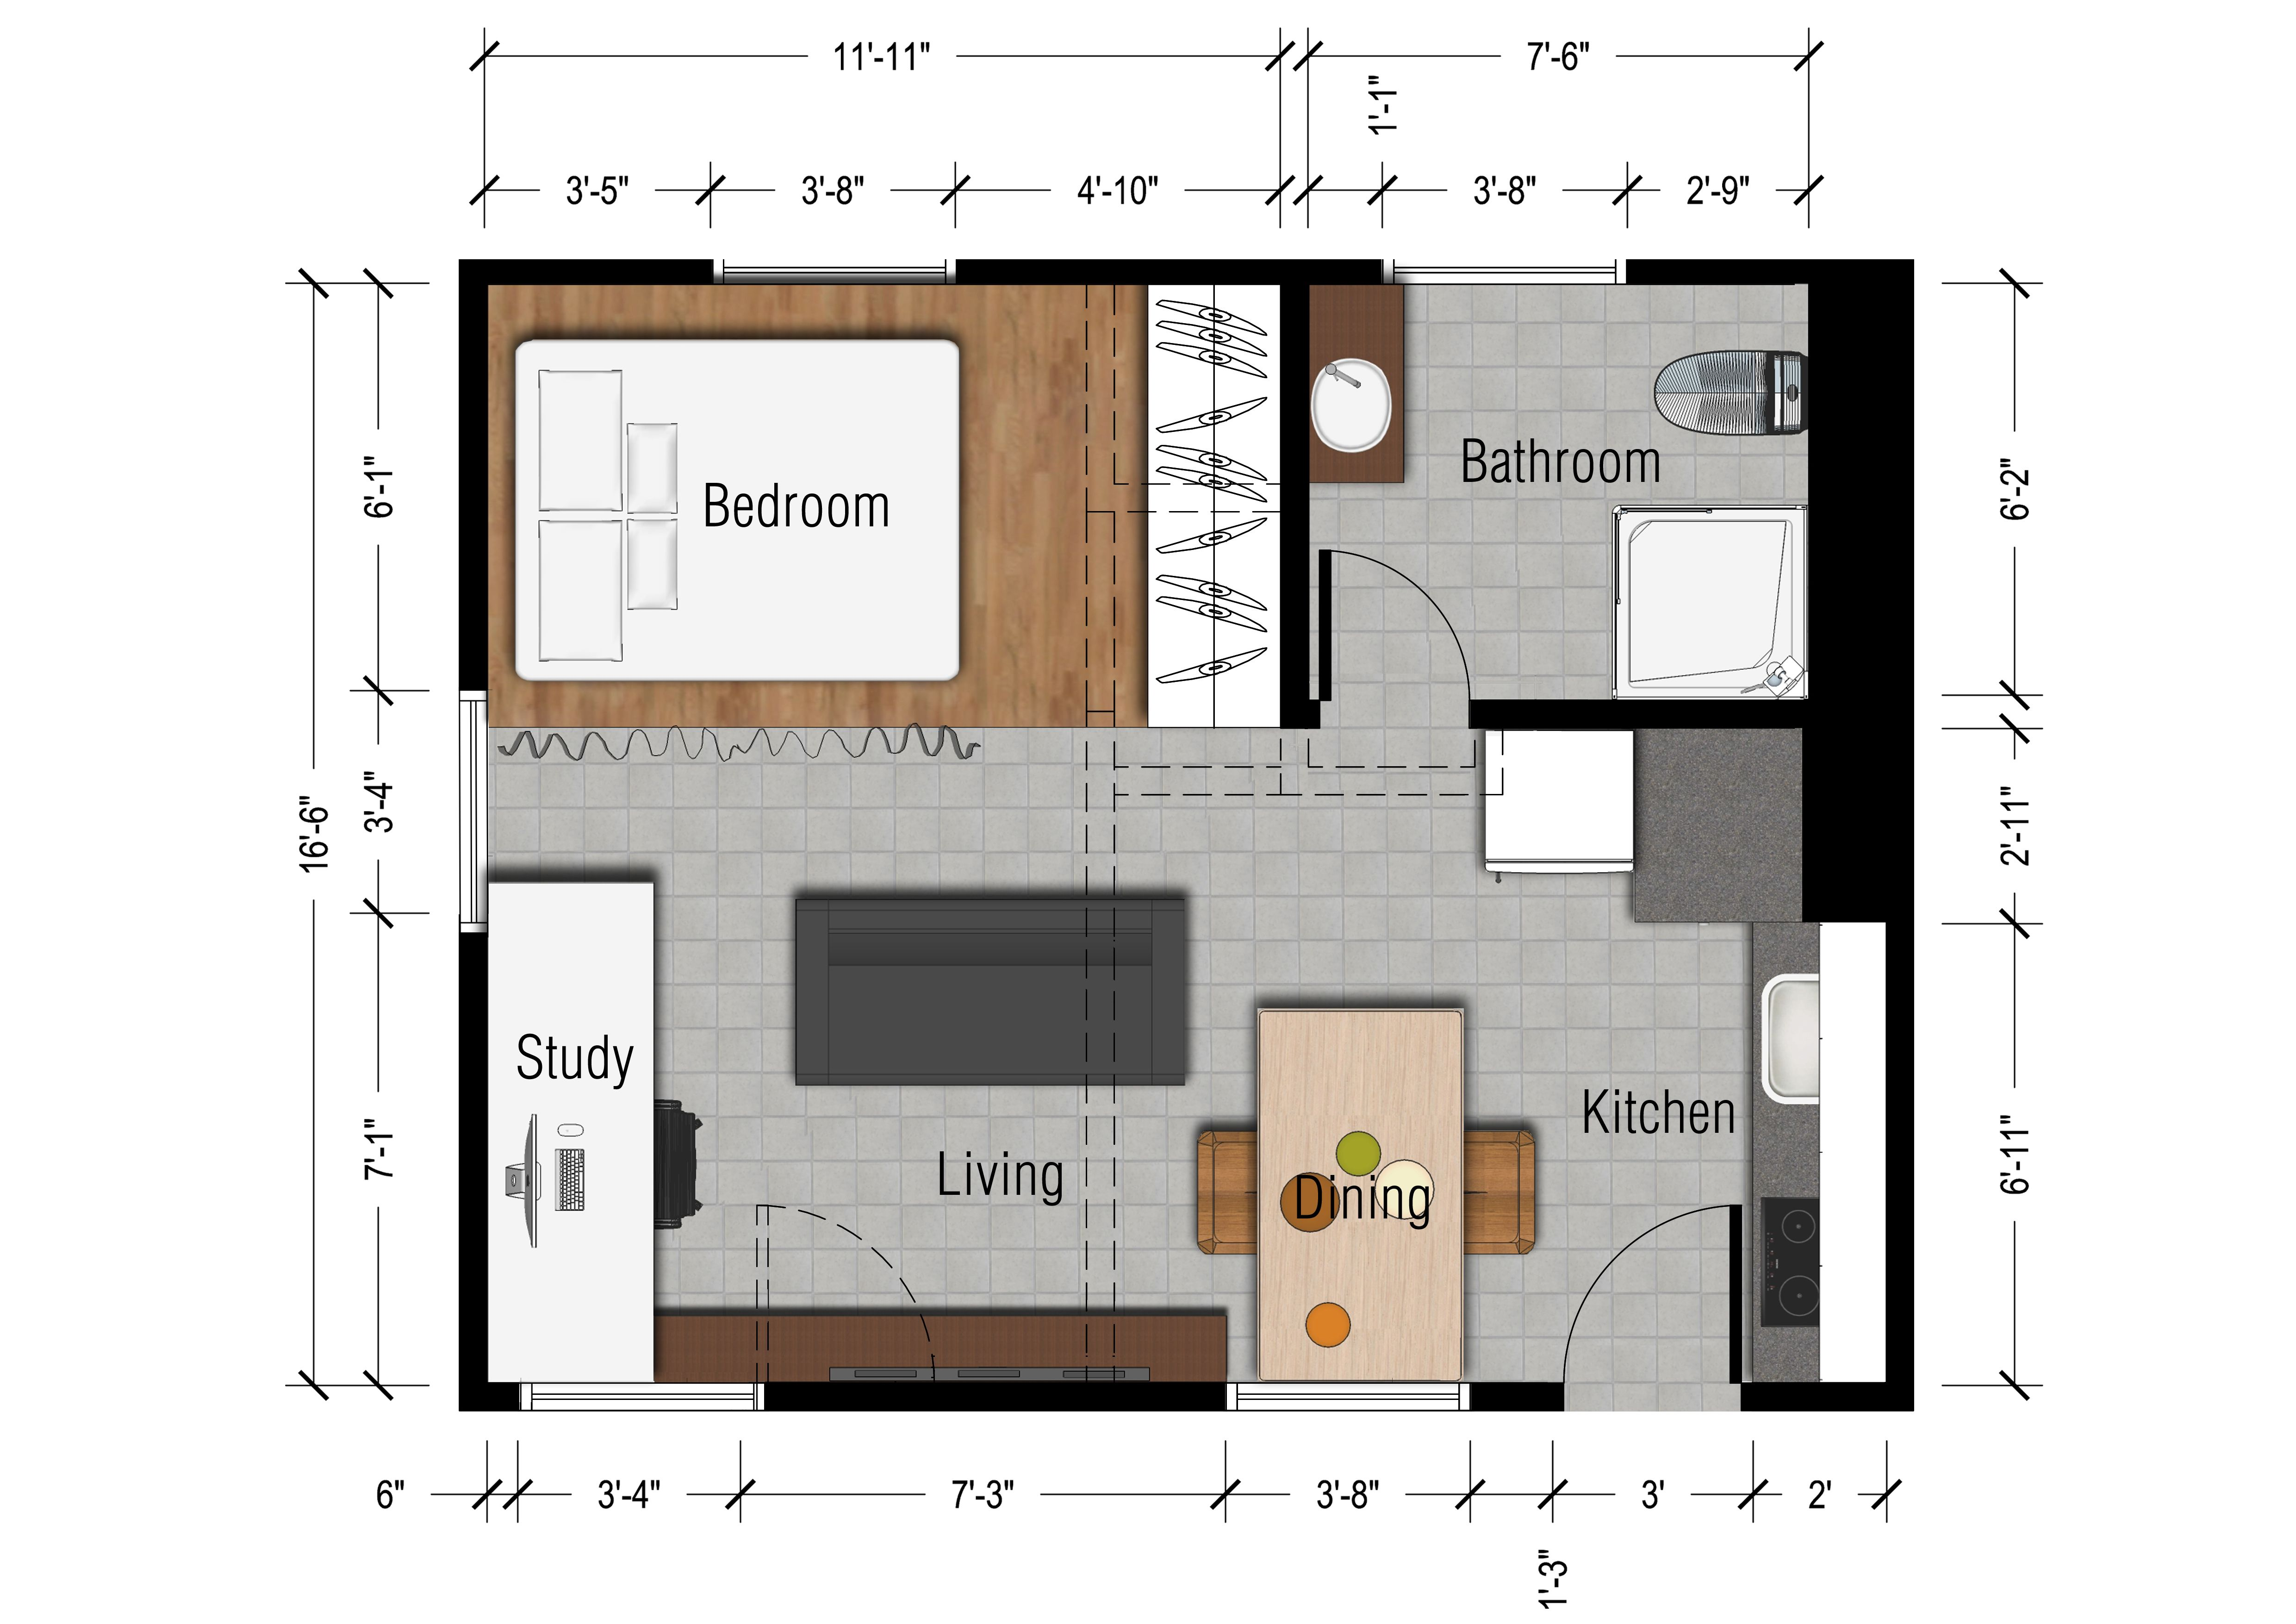window: (1221, 1378, 1474, 1418), (1374, 253, 1632, 290), (457, 685, 492, 939), (515, 1380, 769, 1411)
